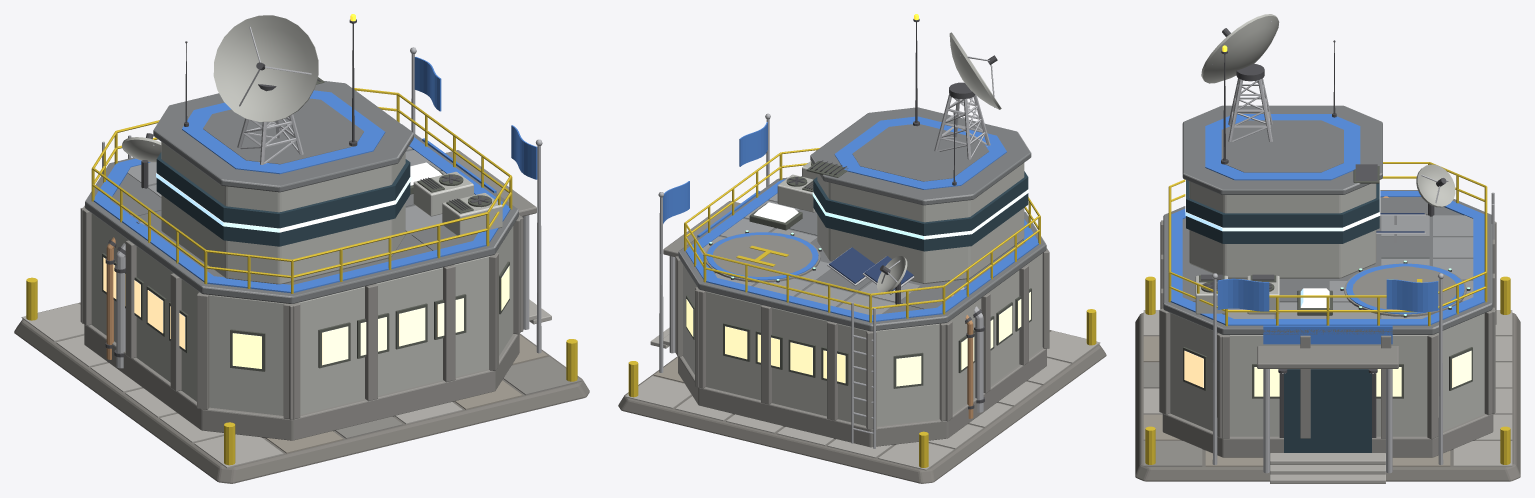
File: command_center_blue.glb
3 renders of one model, left to right at view 1: azimuth 30°, elevation 25°; view 2: azimuth 150°, elevation 25°; view 3: azimuth 270°, elevation 25°, orthographic. The views are drawn at different scales.
Visible parts, largest first — view 1: Body; view 2: Body; view 3: Body.
Part boxes in pixels (<box>): Body: <box>14,14,589,483</box>; Body: <box>618,14,1106,483</box>; Body: <box>1135,14,1520,483</box>.
Bounding box in the file's own units: 6.49 × 6.04 × 5.98.
1 material, 1 textured.
